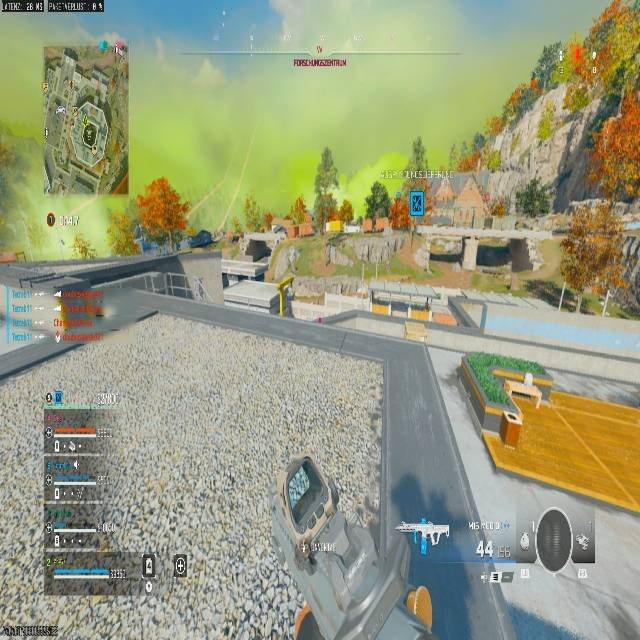player: (363, 182, 391, 229), (270, 277, 296, 319)
